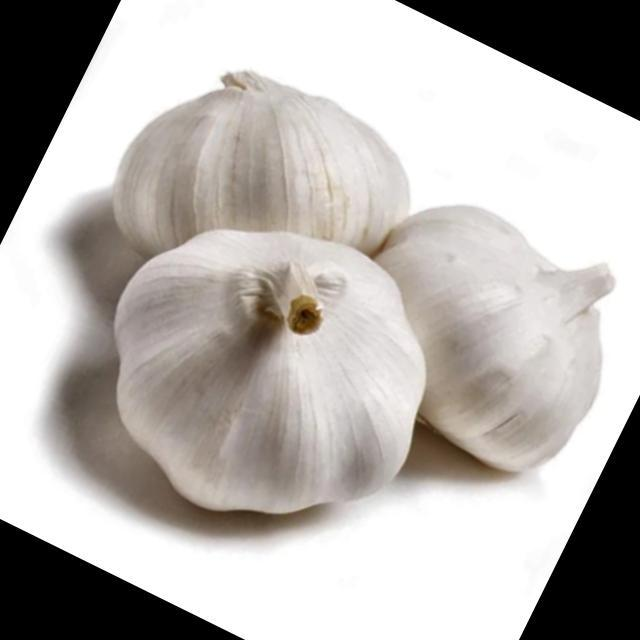garlic: (115, 232, 425, 513), (375, 206, 615, 471), (114, 71, 408, 257)
